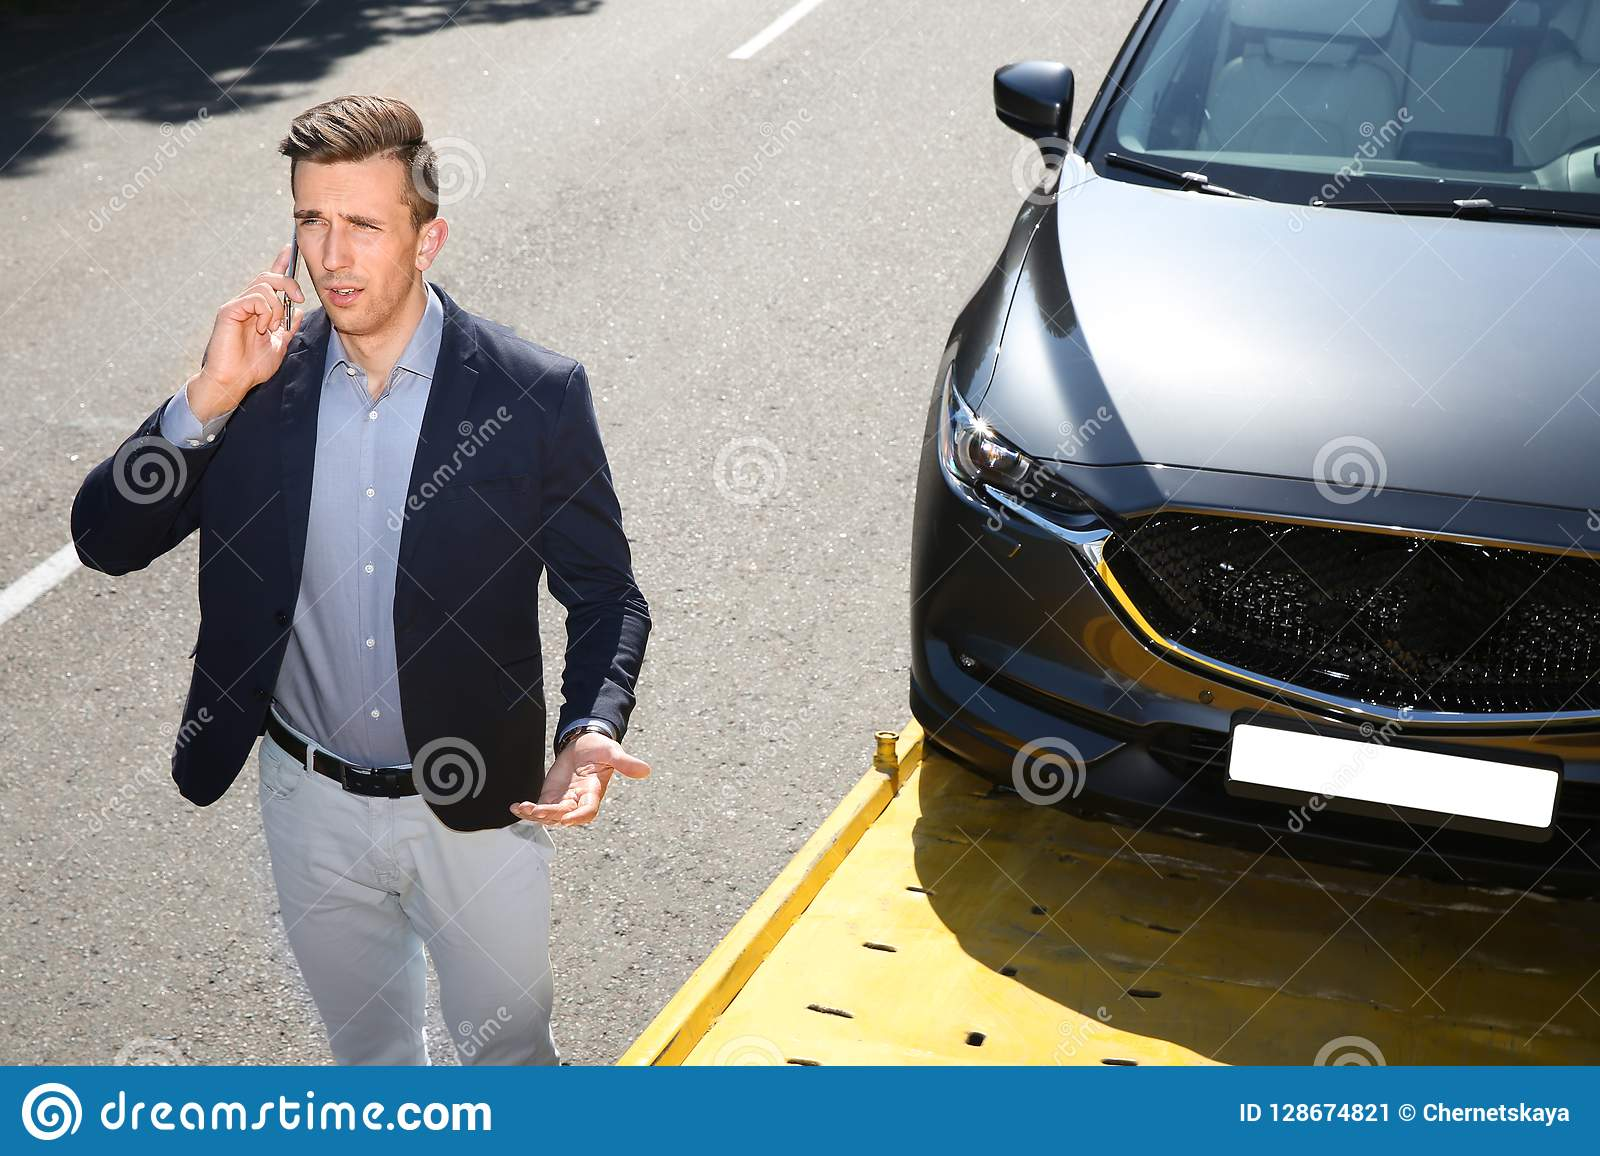phone: (275, 221, 309, 350)
talk: (207, 199, 395, 405)
